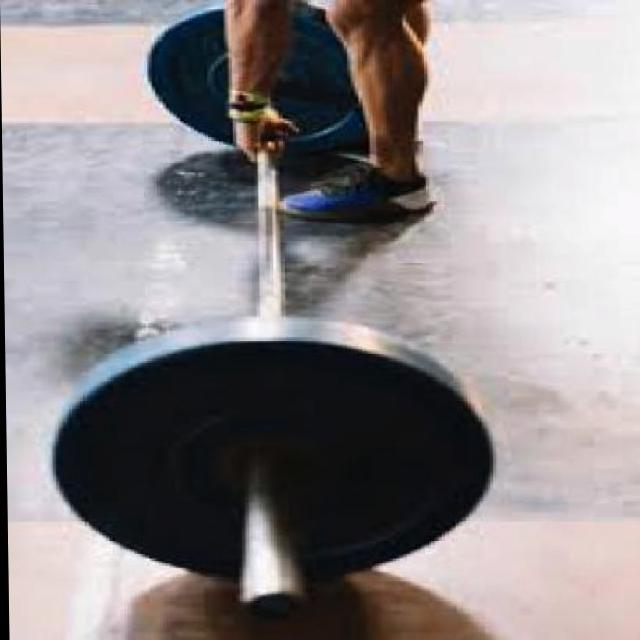barbell: (42, 329, 499, 628)
